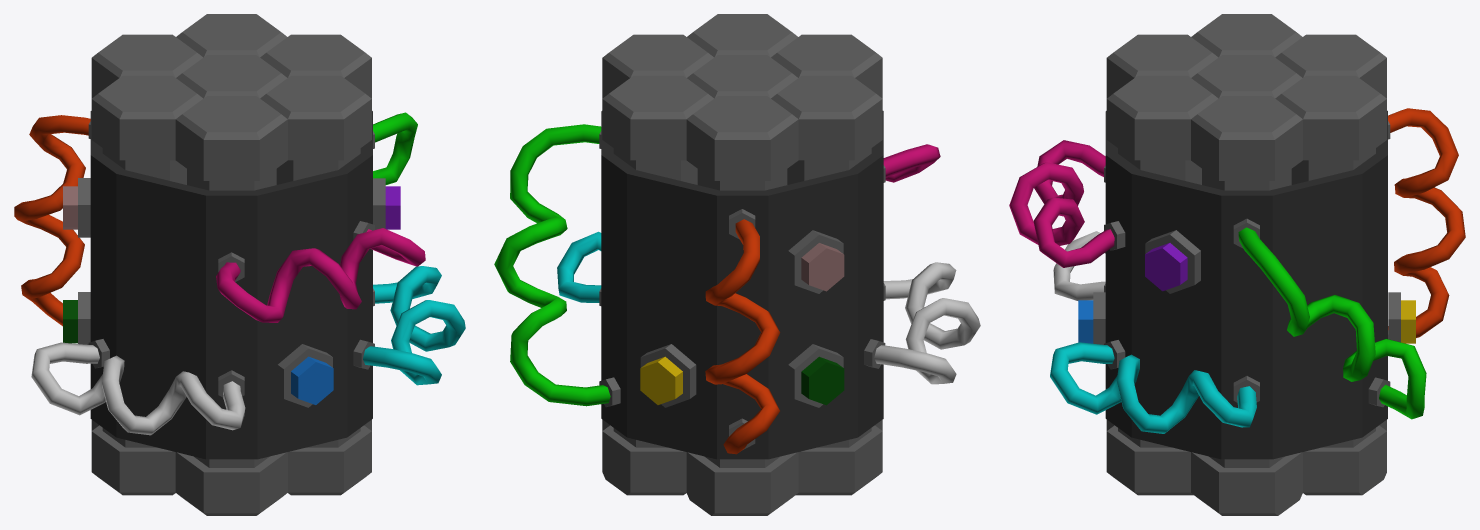
The model's file is captcha.glb.
The picture shows the model from 3 angles, left to right: view 1: azimuth 30°, elevation 25°; view 2: azimuth 150°, elevation 25°; view 3: azimuth 270°, elevation 25°; orthographic projection.
Parts seen in each view (by area): view 1: Cylinder.008, Cylinder.005, Cylinder.019, Cylinder.006, BezierCurve.003, BezierCurve.004, BezierCurve.001, BezierCurve.002, Cylinder.003, Cylinder.002, Cylinder.004, Cylinder.001 (+9 smaller); view 2: Cylinder.008, Cylinder.003, Cylinder.004, Cylinder.019, BezierCurve, BezierCurve.003, BezierCurve.002, Cylinder.002, Cylinder.005, Cylinder.001, Cylinder.006, BezierCurve.001 (+7 smaller); view 3: Cylinder.008, Cylinder.002, Cylinder.004, Cylinder.006, BezierCurve, BezierCurve.001, BezierCurve.004, BezierCurve.002, Cylinder.005, Cylinder.003, Cylinder.019, Cylinder.001 (+7 smaller).
Part boxes in pixels (<box>): Cylinder.008: <box>90,111,372,459</box>; Cylinder.005: <box>175,96,287,515</box>; Cylinder.019: <box>91,75,203,495</box>; Cylinder.006: <box>260,75,371,495</box>; BezierCurve.003: <box>31,342,245,435</box>; BezierCurve.004: <box>216,228,425,322</box>; BezierCurve.001: <box>363,266,465,385</box>; BezierCurve.002: <box>14,115,90,326</box>; Cylinder.003: <box>91,34,203,430</box>; Cylinder.002: <box>260,34,371,430</box>; Cylinder.004: <box>176,14,286,57</box>; Cylinder.001: <box>176,55,287,98</box>; Cylinder.008: <box>601,111,883,459</box>; Cylinder.003: <box>686,96,798,515</box>; Cylinder.004: <box>602,75,713,495</box>; Cylinder.019: <box>771,75,882,495</box>; BezierCurve: <box>494,124,610,406</box>; BezierCurve.003: <box>874,262,980,384</box>; BezierCurve.002: <box>705,219,780,454</box>; Cylinder.002: <box>602,34,713,430</box>; Cylinder.005: <box>771,34,882,430</box>; Cylinder.001: <box>687,55,797,98</box>; Cylinder.006: <box>687,14,797,57</box>; BezierCurve.001: <box>557,231,601,302</box>; Cylinder.008: <box>1105,110,1387,459</box>; Cylinder.002: <box>1191,96,1302,515</box>; Cylinder.004: <box>1275,75,1386,495</box>; Cylinder.006: <box>1106,75,1218,495</box>; BezierCurve: <box>1238,227,1426,419</box>; BezierCurve.001: <box>1050,342,1256,433</box>; BezierCurve.004: <box>1009,140,1114,267</box>; BezierCurve.002: <box>1388,108,1465,337</box>; Cylinder.005: <box>1106,34,1218,430</box>; Cylinder.003: <box>1275,34,1386,430</box>; Cylinder.019: <box>1191,14,1302,57</box>; Cylinder.001: <box>1191,55,1302,98</box>.
Bounding box in the file's own units: 0.8338 × 0.7467 × 0.8055.
Materials: 1 (1 with a texture image).
